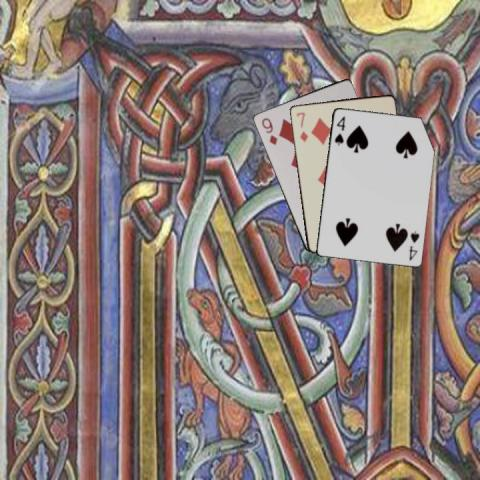4s: (331, 112, 346, 146), (406, 228, 420, 262)
7d: (293, 110, 309, 144)
9d: (258, 115, 279, 146)
